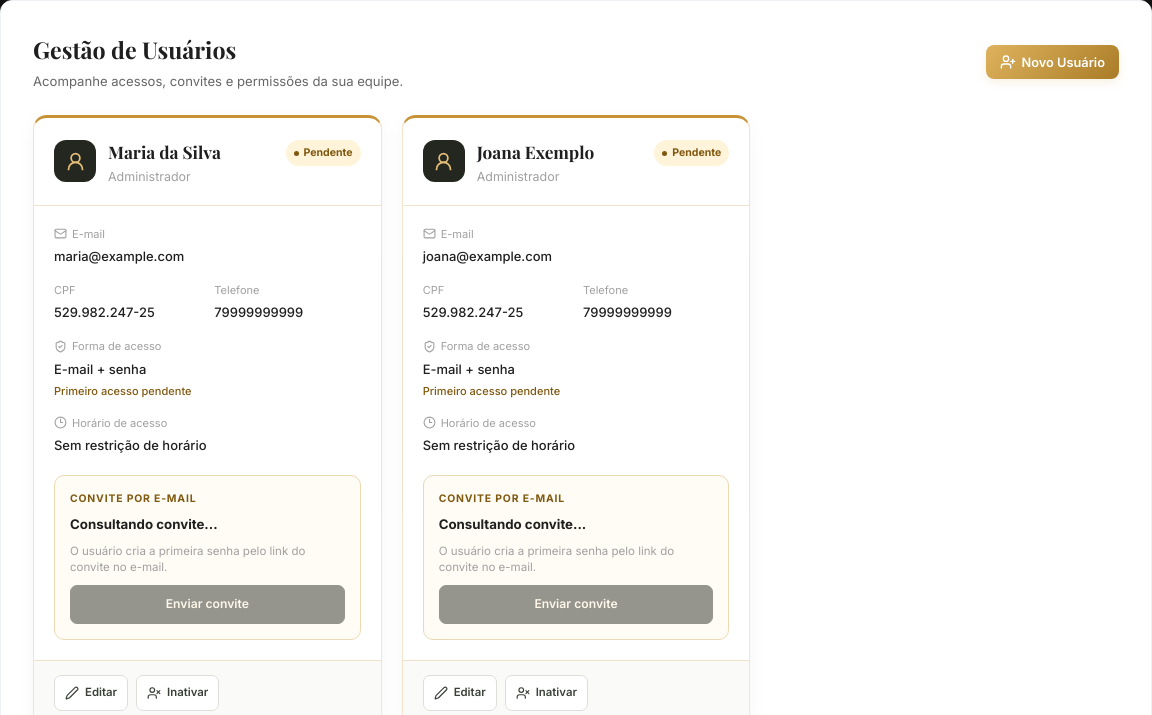
Test: cadastro de usuário por convite › exibe cards e reenvia somente o convite do card escolhido, sem abrir edição por clique no conteúdo
Expected: the text "Administrador" below "Maria da Silva" is shown, [108,169,191,184]
Expected: the text "Pendente" next to "Maria da Silva" is shown, [304,146,353,160]
Click the text "maria@example.com". click: x=119, y=256
box: [54,248,184,264]
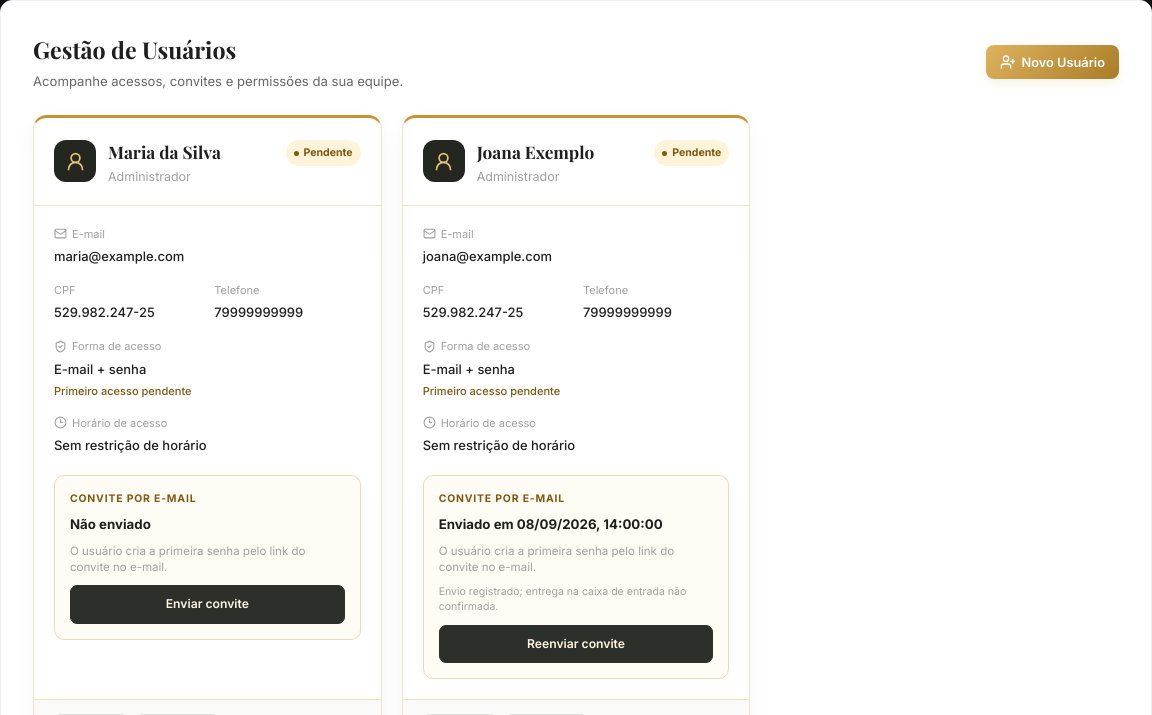
Expected: the text "Não enviado" is shown, [70,514,151,533]
Expected: the text "Enviado em 08/09/2026, 14:00:00" is shown, [439,514,663,533]
Expected: the text "Envio registrado; entrega na caixa de entrada não confirmada." is shown, [439,585,713,615]
Click the button "Reenviar convite". click: x=576, y=644
box: [439,625,713,663]
(page scrolled)
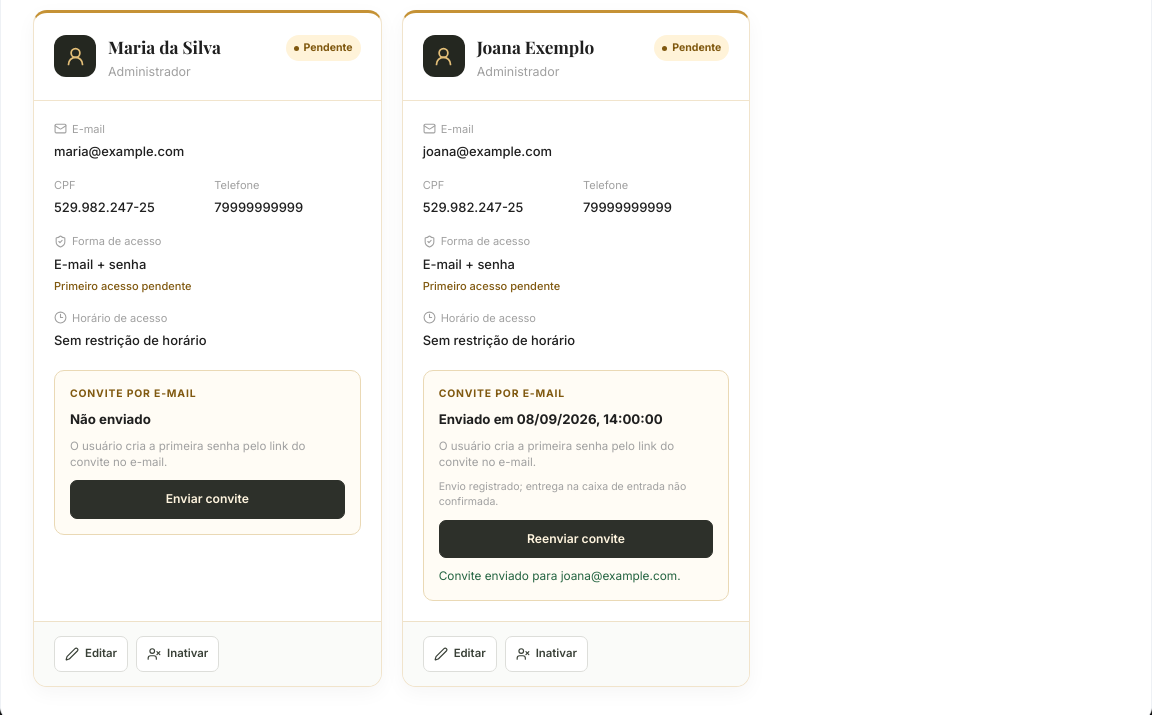
Expected: the text "Não enviado" is shown, [70,410,151,428]
Expected: the message reads "Convite enviado para joana@example.com.", [439,568,681,585]
Click the button with aria-label "Editar Maria da Silva". click: x=91, y=654
box: [54,636,128,672]
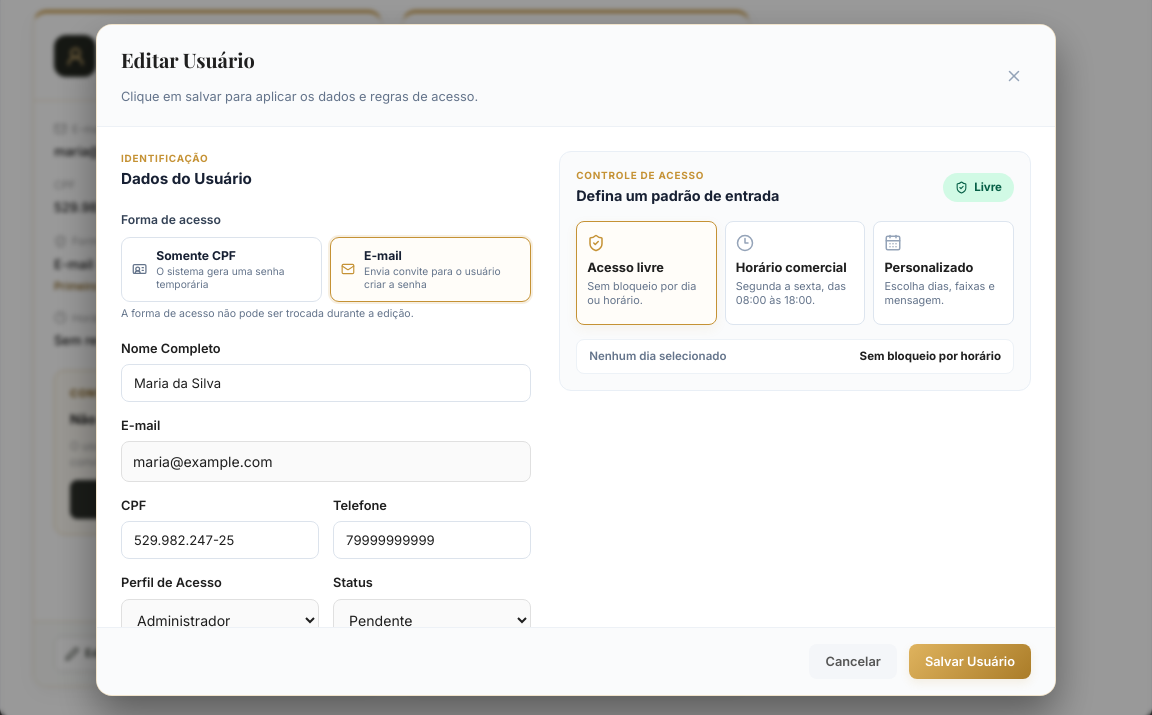
Expected: the heading "Editar Usuário" is shown, [121,46,255,73]
